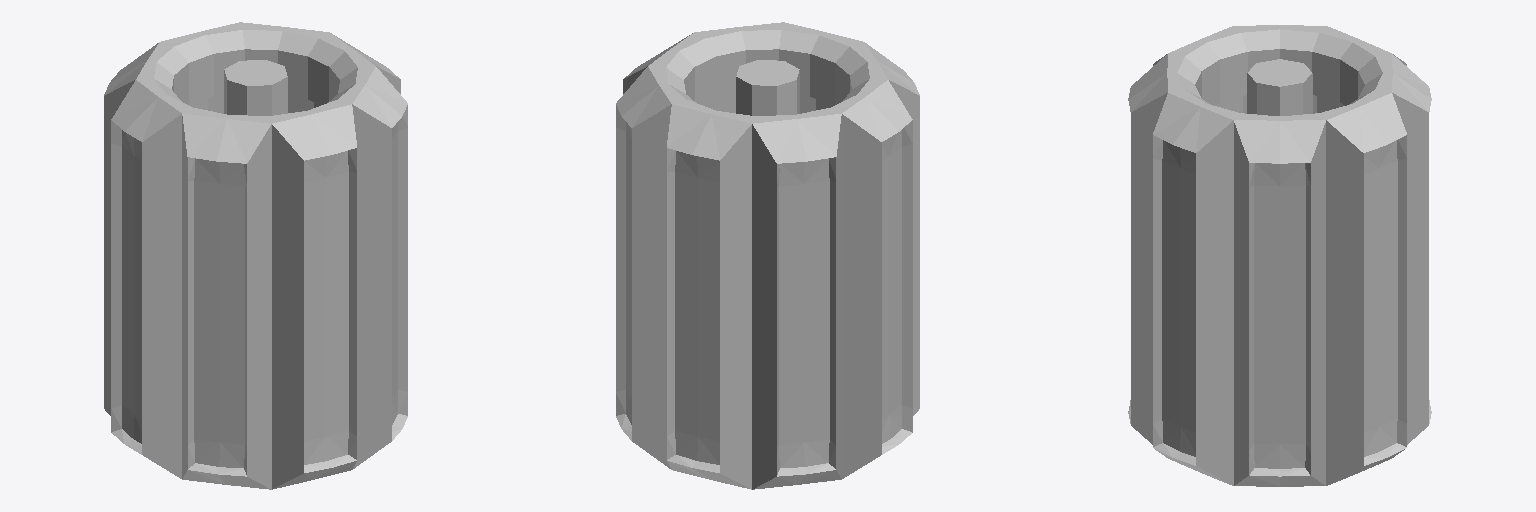
The model's file is station_industrial.obj.
3 views of the same model, side by side, from view 1: azimuth 30°, elevation 25°; view 2: azimuth 150°, elevation 25°; view 3: azimuth 270°, elevation 25° (orthographic).
Parts seen in each view (by area): view 1: Cylinder; view 2: Cylinder; view 3: Cylinder.
Boxes of the visible parts, box(x1,y1,x2,y2) form: Cylinder: box(104, 22, 407, 489); Cylinder: box(616, 22, 919, 489); Cylinder: box(1128, 25, 1431, 486).
Size of the model in its own units: 3.01 by 4 by 3.01.